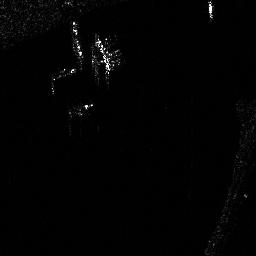ship: (71, 20, 83, 63)
